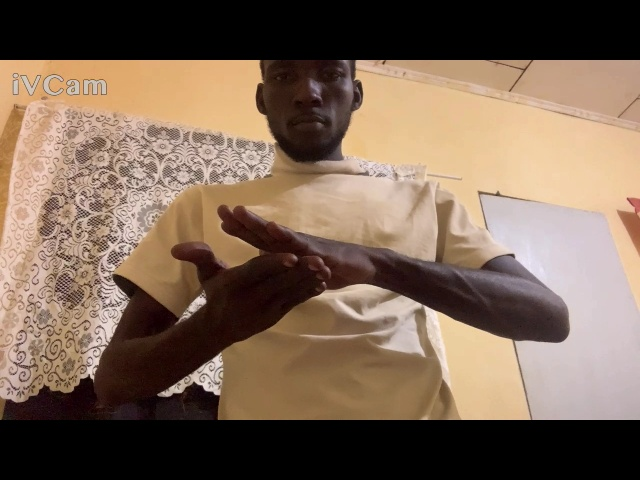pardon: (167, 201, 402, 346)
